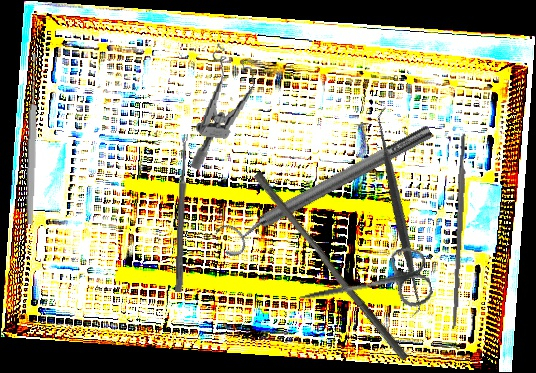Fixation Ring: (212, 116, 440, 261)
Iris Scissors: (293, 242, 435, 331)
Pusher: (246, 170, 417, 362)
Scalpel Handle: (450, 132, 469, 330)
Spatula Surgical: (292, 105, 506, 318)
Speculum: (189, 41, 261, 176)
Surgical Spoon: (24, 53, 41, 225), (175, 133, 189, 293)
